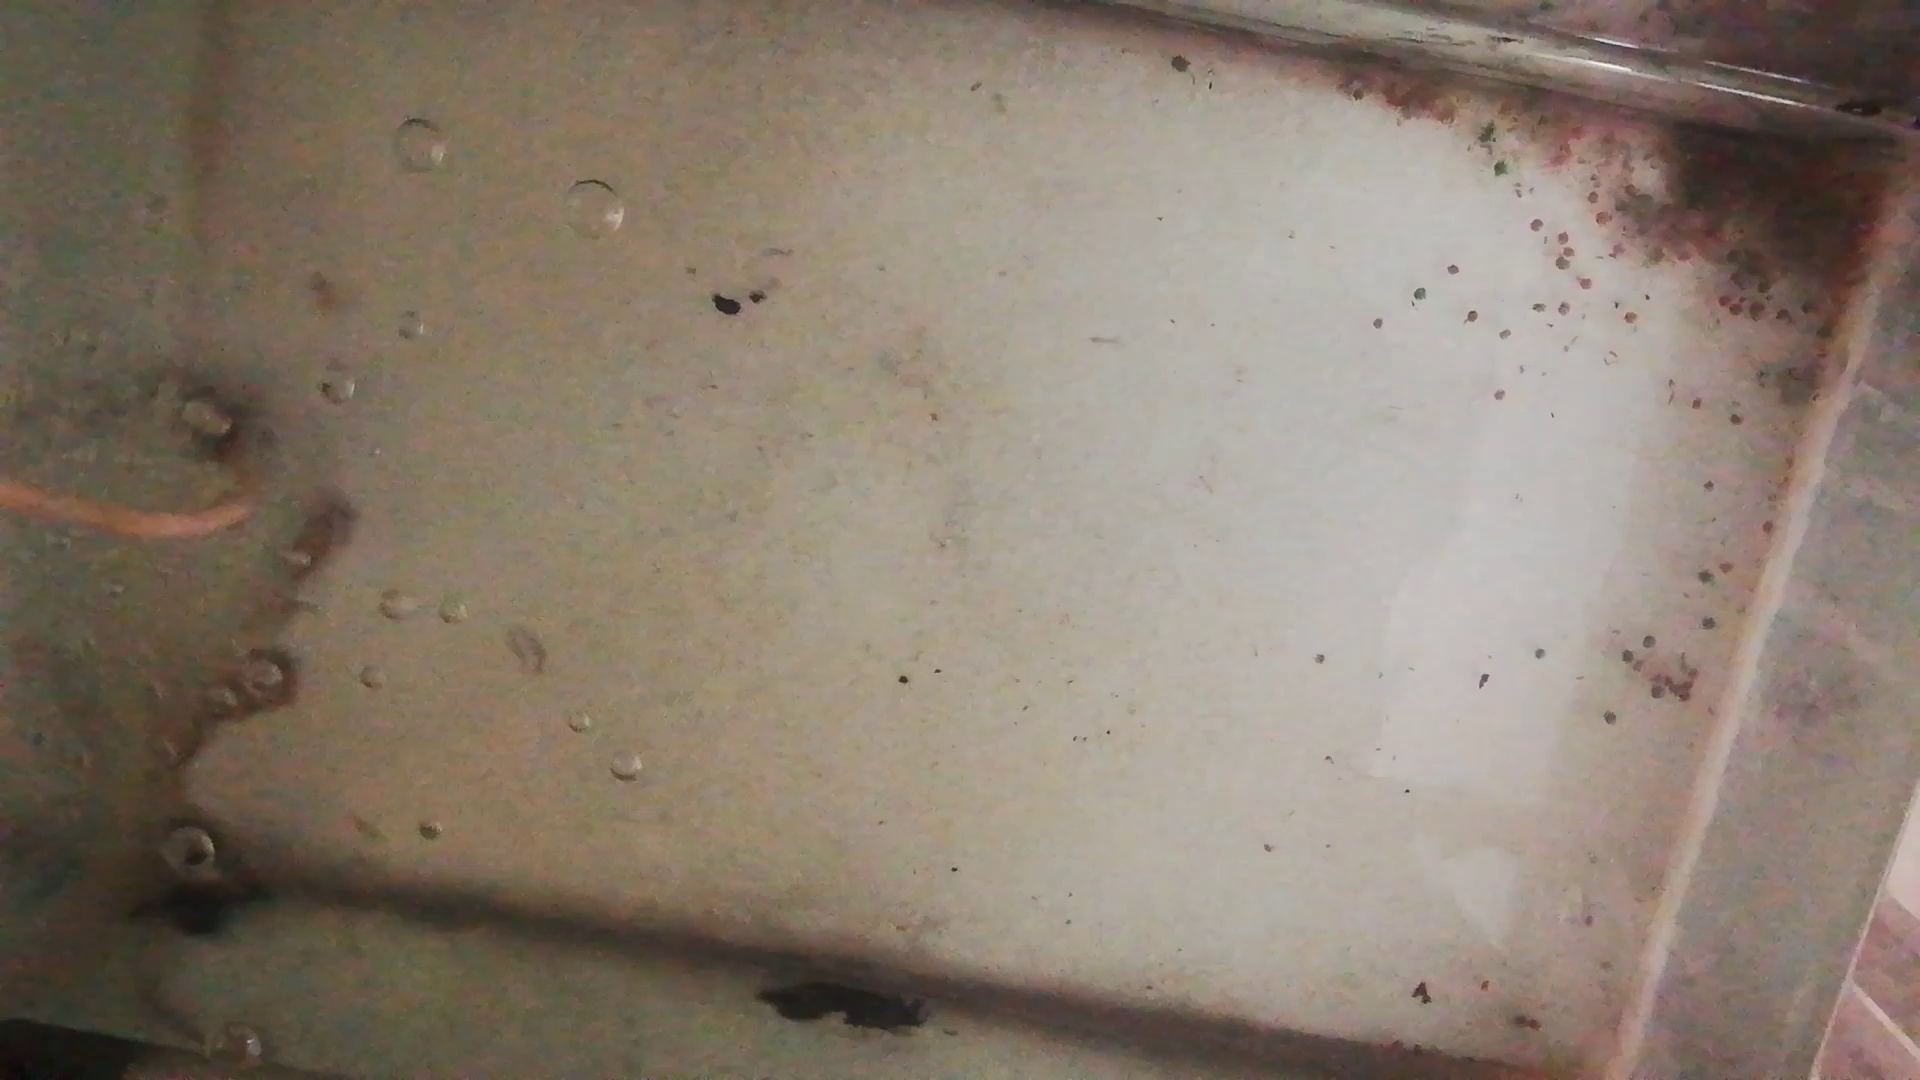fish: (160, 647, 305, 764), (252, 493, 364, 641)
